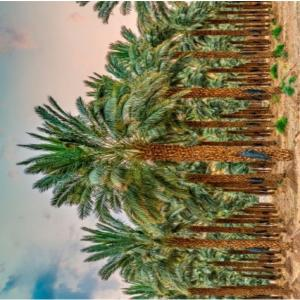palm tree: (16, 0, 294, 299)
